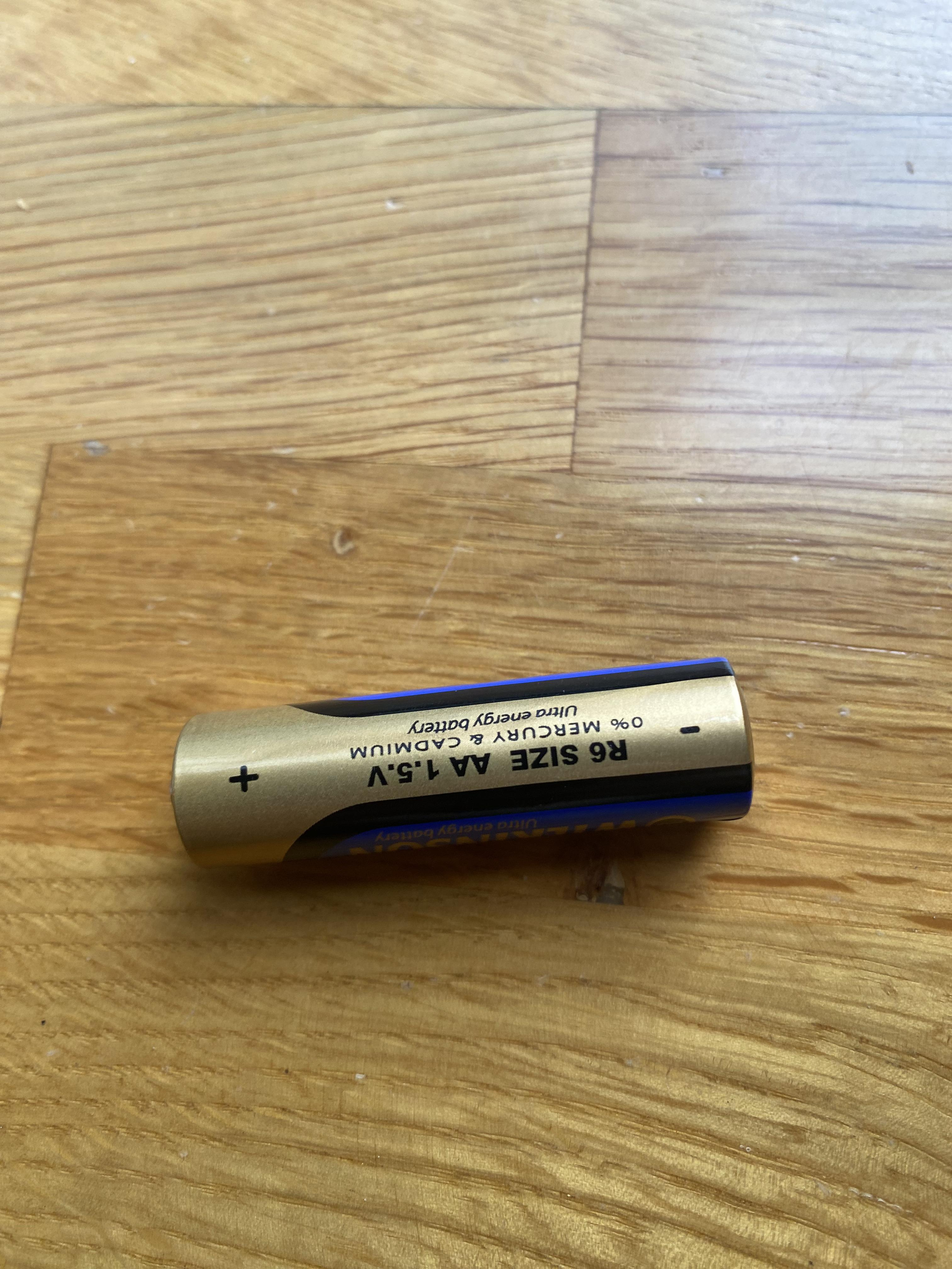AA: (169, 653, 755, 871)
